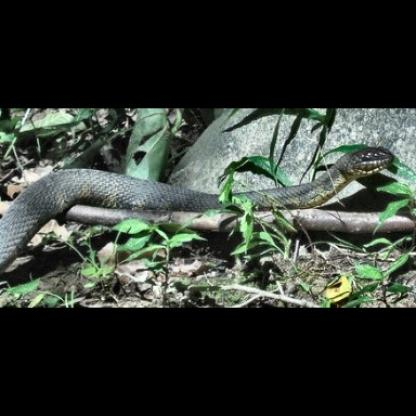Snake: (6, 113, 412, 264)
